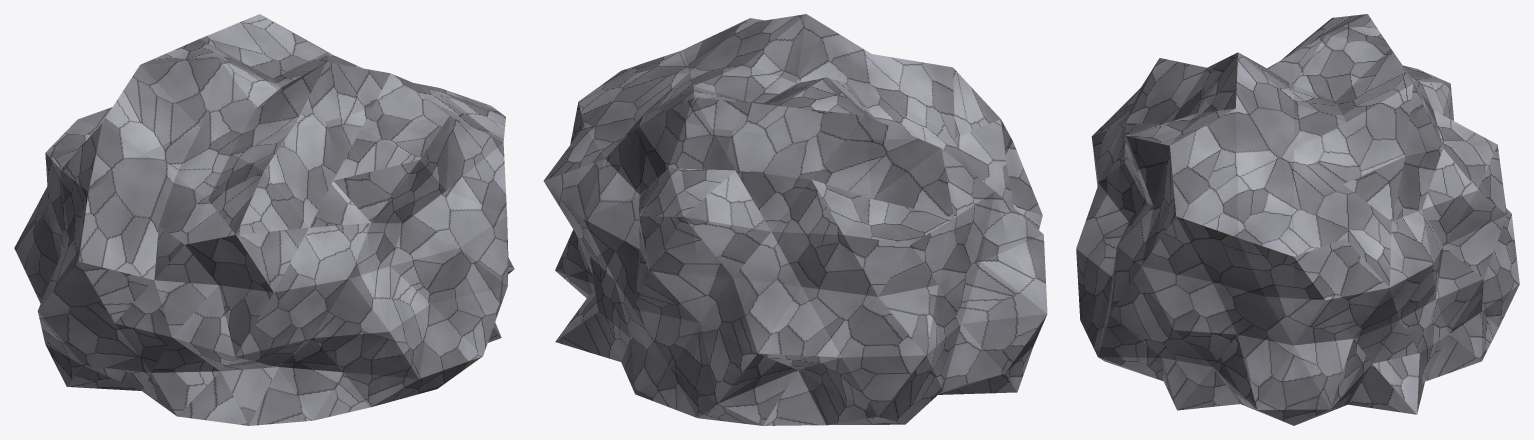
File: Rock_Big.glb
3 renders of one model, left to right at view 1: azimuth 30°, elevation 25°; view 2: azimuth 150°, elevation 25°; view 3: azimuth 270°, elevation 25°, orthographic. The views are drawn at different scales.
Visible parts, largest first — view 1: Rock_Big; view 2: Rock_Big; view 3: Rock_Big.
Boxes of the visible parts, left/top/right/bottom form: Rock_Big: left=14, top=14, right=514, bottom=425; Rock_Big: left=543, top=14, right=1047, bottom=425; Rock_Big: left=1076, top=14, right=1519, bottom=425.
Size of the model in its own units: 2.34 by 1.41 by 1.97.
Materials: 1 (1 with a texture image).
